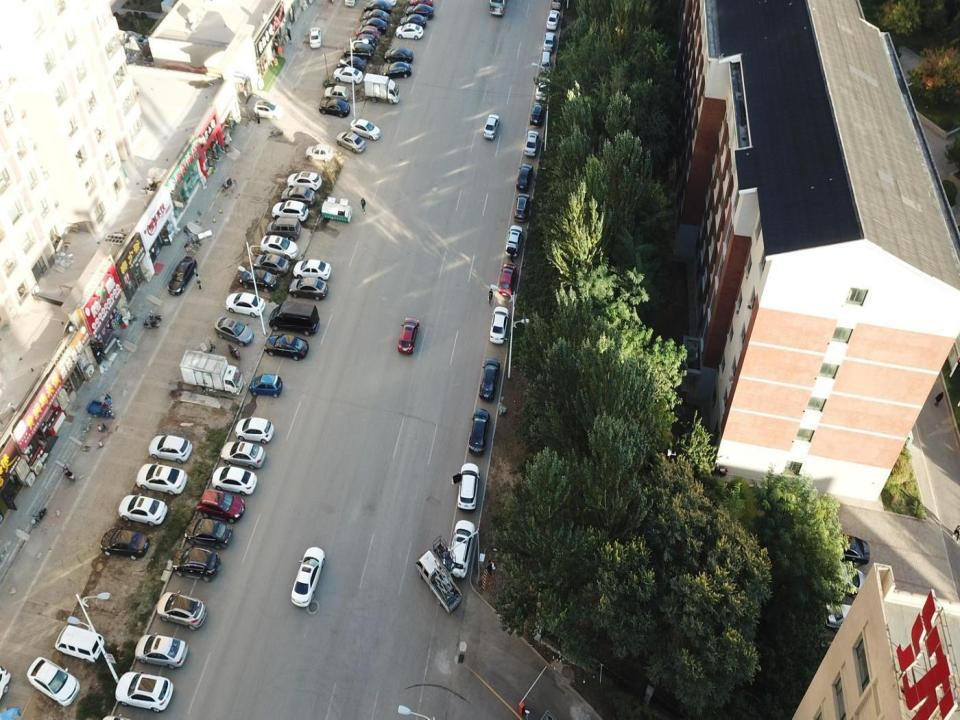car: (115, 669, 172, 713), (28, 655, 79, 703), (289, 547, 328, 608), (159, 588, 207, 632), (136, 629, 188, 669), (100, 527, 150, 561), (118, 494, 168, 528), (136, 462, 186, 496), (186, 517, 234, 550), (147, 433, 192, 468), (173, 550, 221, 582), (447, 523, 474, 579), (200, 490, 246, 520), (212, 467, 258, 496), (222, 440, 266, 469), (212, 317, 253, 348), (456, 461, 479, 516), (264, 334, 309, 361), (167, 258, 198, 297), (234, 417, 275, 446), (226, 290, 264, 319), (468, 407, 490, 457), (253, 253, 289, 280), (290, 278, 330, 302), (260, 238, 297, 263), (397, 318, 421, 356), (295, 260, 332, 284), (480, 359, 501, 401), (271, 201, 308, 224), (249, 373, 284, 397), (240, 272, 277, 294), (282, 187, 316, 210), (265, 220, 302, 241), (287, 171, 320, 194), (349, 118, 380, 142), (318, 97, 351, 118), (488, 308, 508, 342), (335, 134, 365, 156), (252, 102, 284, 121), (304, 144, 333, 164), (334, 64, 362, 84), (516, 162, 534, 193), (499, 262, 514, 299), (506, 225, 521, 260), (363, 8, 389, 27), (344, 44, 373, 61), (382, 63, 411, 80), (384, 47, 413, 64), (348, 35, 376, 52), (514, 193, 529, 224), (361, 19, 386, 37), (395, 24, 423, 40), (353, 26, 379, 43), (405, 4, 434, 19), (365, 1, 390, 18), (524, 132, 540, 158), (483, 115, 500, 139), (324, 85, 348, 102), (338, 57, 365, 71), (400, 16, 427, 29), (308, 26, 322, 48), (535, 78, 547, 102), (543, 32, 555, 55), (546, 10, 560, 29), (532, 104, 542, 127)
truck: (416, 550, 462, 615), (179, 350, 244, 396), (362, 71, 400, 104)
van: (55, 621, 104, 665), (269, 303, 319, 338), (540, 50, 551, 72)
